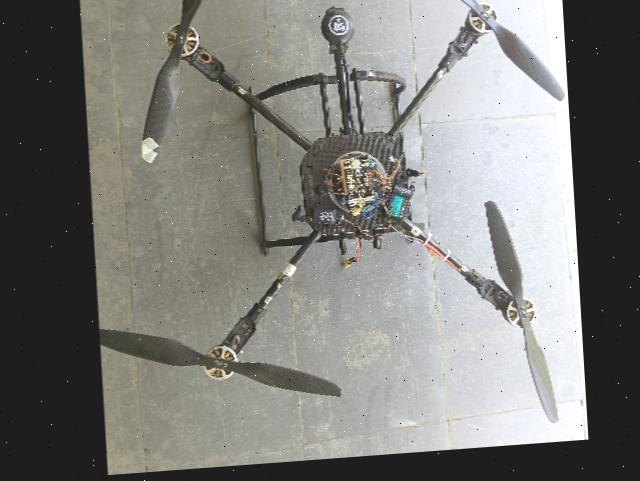drone: (79, 0, 582, 458)
